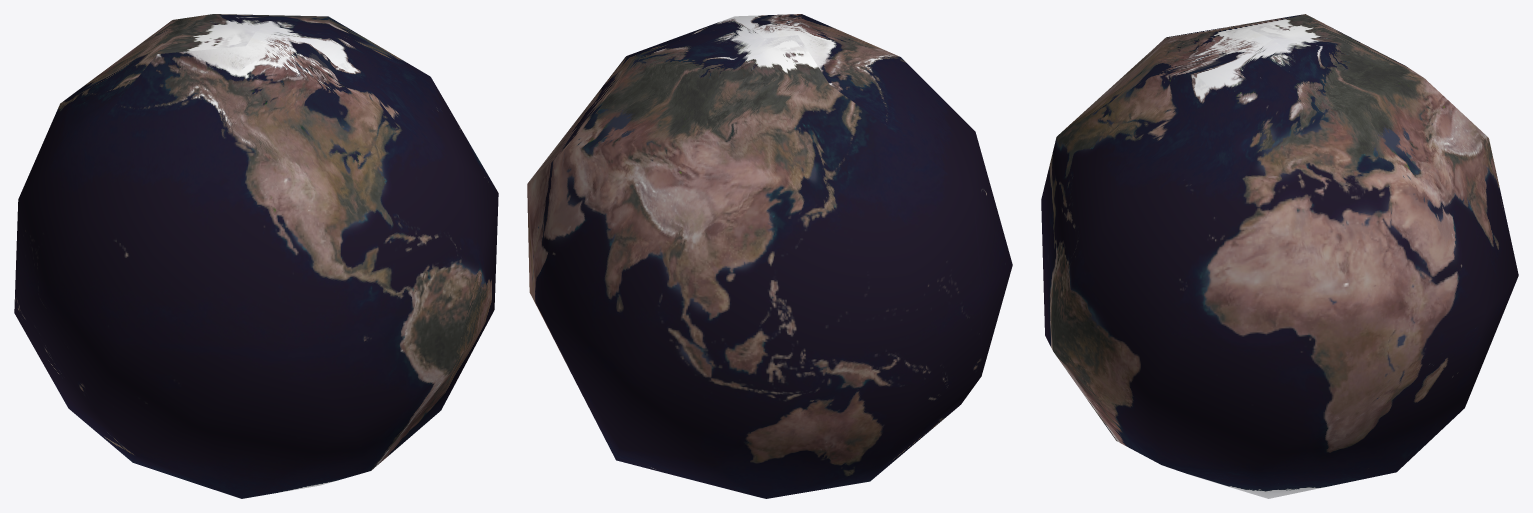
The model's file is earth.obj.
3 views of the same model, side by side, from view 1: azimuth 30°, elevation 25°; view 2: azimuth 150°, elevation 25°; view 3: azimuth 270°, elevation 25° (orthographic).
Bounding box in the file's own units: 9.84 × 10.01 × 9.95.
1 material, 1 textured.
